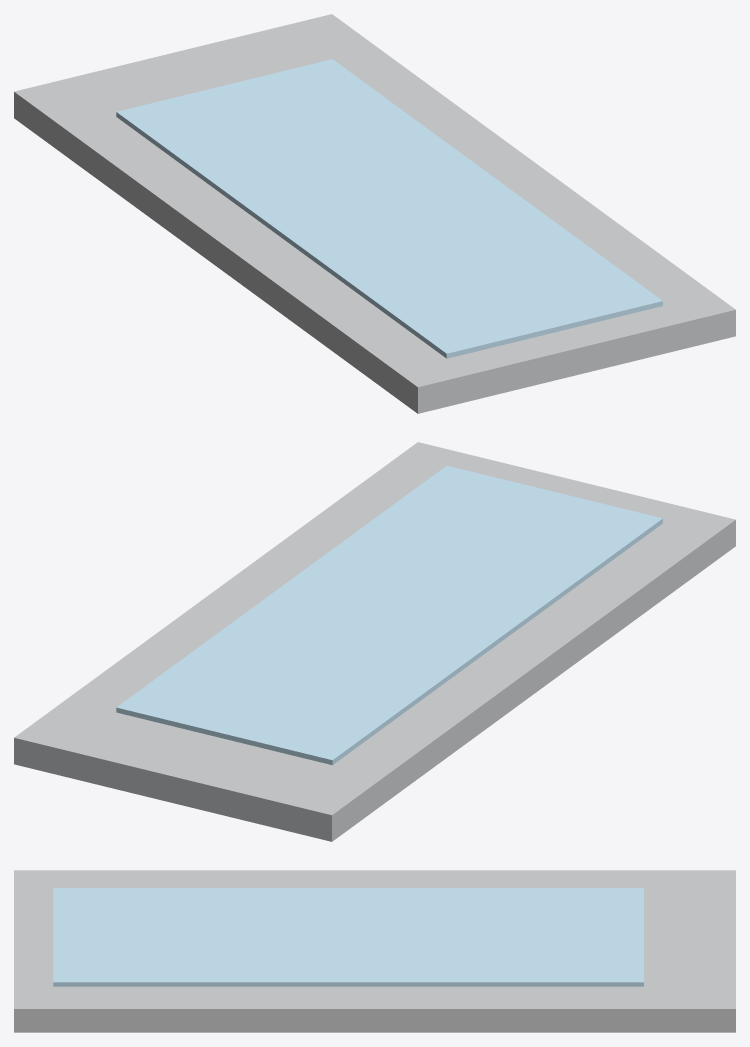
The model's file is office_door.glb.
3 views of the same model, one above another, from view 1: azimuth 30°, elevation 25°; view 2: azimuth 150°, elevation 25°; view 3: azimuth 270°, elevation 25° (orthographic). The views are drawn at different scales.
Parts seen in each view (by area): view 1: panel_0, window_1; view 2: panel_0, window_1; view 3: panel_0, window_1.
Boxes of the visible parts, x1,y1,x2,y2 form: panel_0: (14,14,735,413); window_1: (116,59,662,358); panel_0: (14,442,735,841); window_1: (116,465,662,765); panel_0: (14,870,735,1032); window_1: (53,888,643,986).
Size of the model in its own units: 1 by 0.133 by 2.2.
